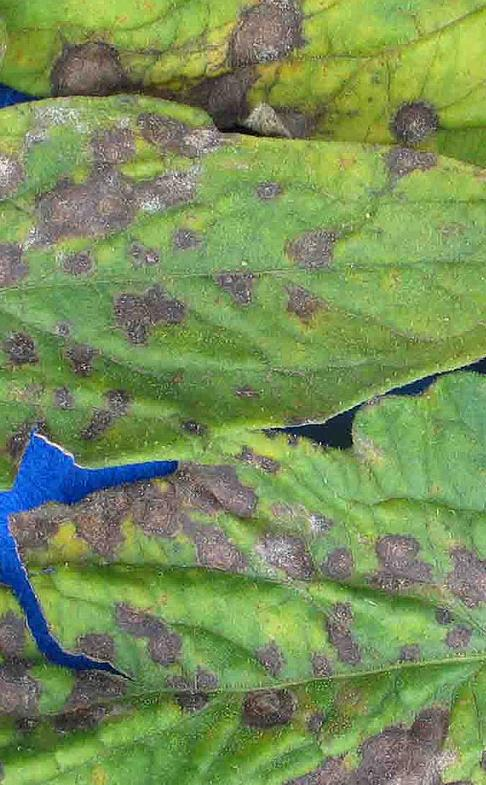Tomato Septoria leaf spot: (0, 0, 486, 628), (0, 282, 486, 785), (0, 0, 486, 320)
